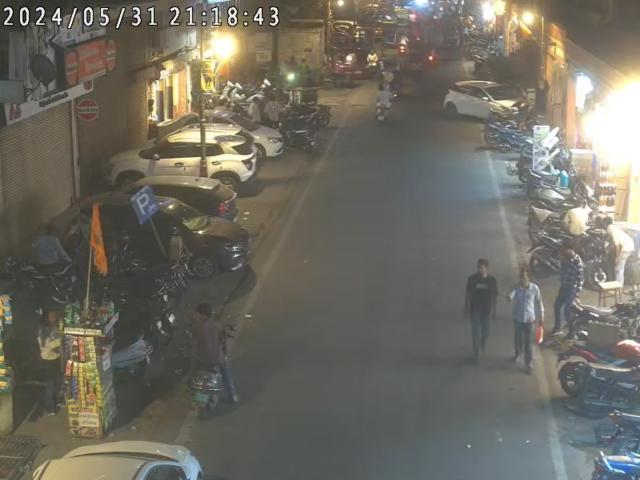car: (84, 196, 250, 276), (102, 138, 257, 192)
motorbike: (556, 339, 640, 403)
no_helmet: (194, 301, 213, 320)
person: (465, 260, 500, 360), (507, 271, 541, 372), (558, 240, 586, 358)
scooty-rider: (184, 300, 238, 410)
